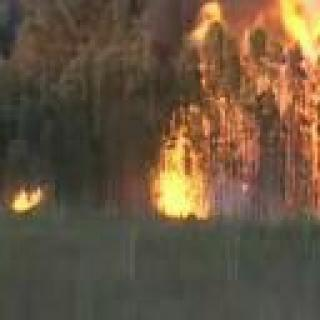fire: (264, 0, 320, 208), (148, 102, 215, 223), (11, 178, 50, 212)
